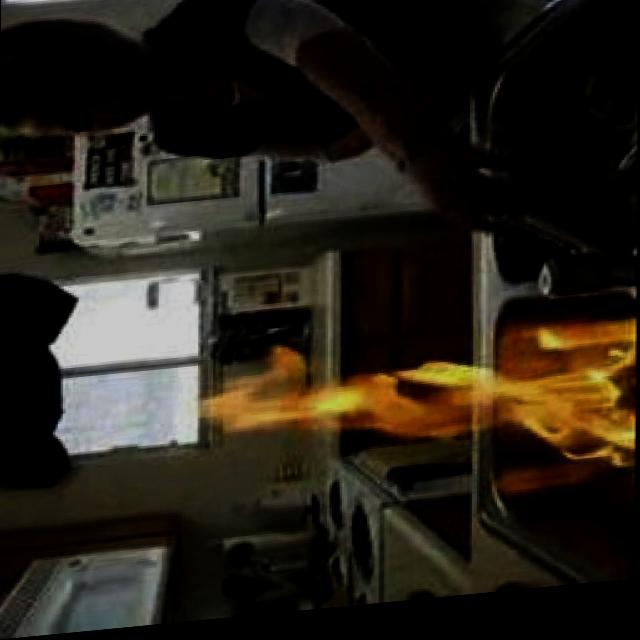helmet: (209, 327, 638, 491)
